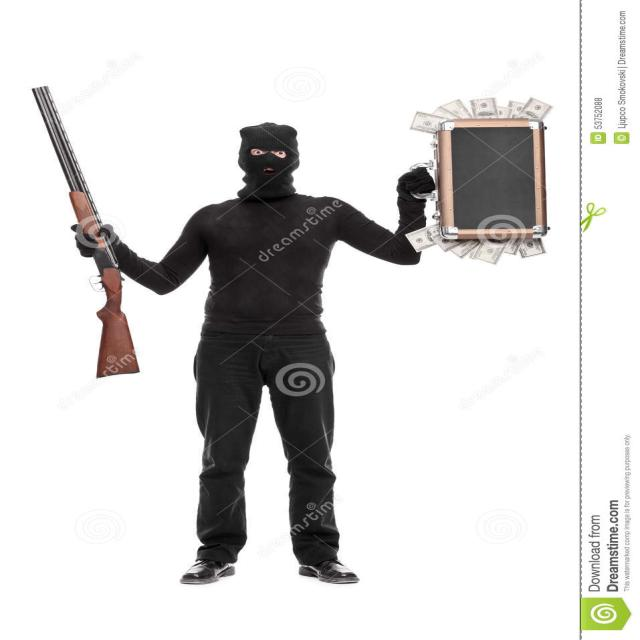ShotGun: (31, 87, 139, 379)
